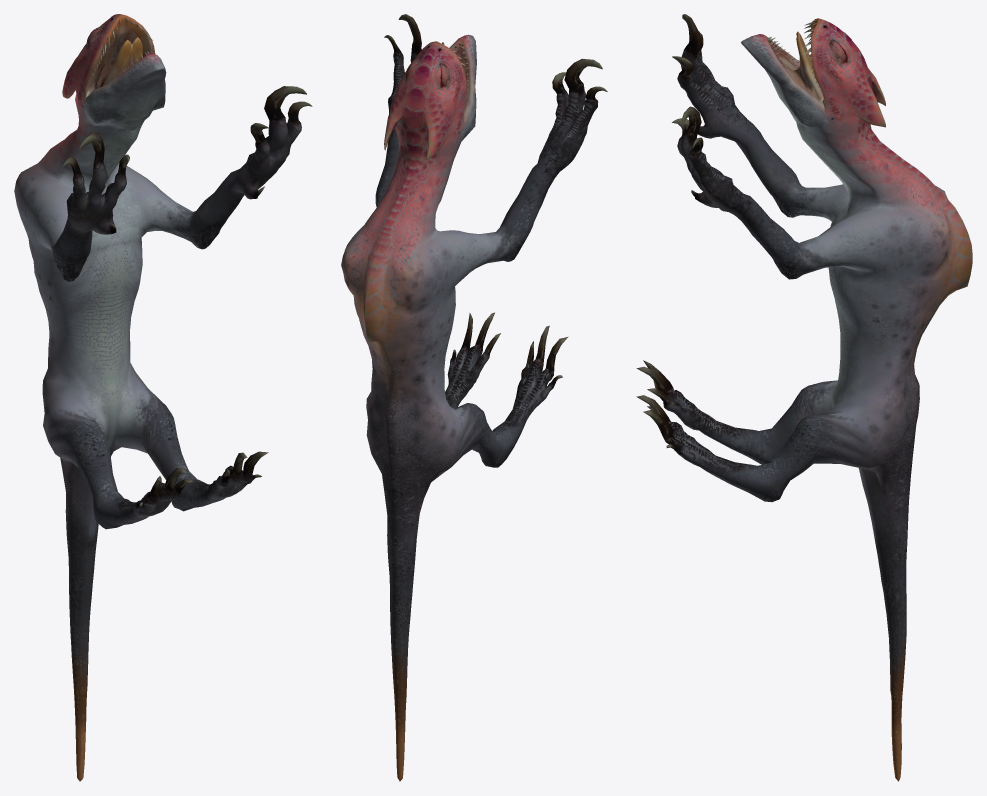
The model's file is ems054_00.obj.
3 renders of one model, left to right at view 1: azimuth 30°, elevation 25°; view 2: azimuth 150°, elevation 25°; view 3: azimuth 270°, elevation 25°, orthographic. The views are drawn at different scales.
Parts seen in each view (by area): view 1: ems054_00_001_LOD_1; view 2: ems054_00_001_LOD_1, ems054_00_004_LOD_1; view 3: ems054_00_001_LOD_1, ems054_00_004_LOD_1.
Boxes of the visible parts, <box> form: ems054_00_001_LOD_1: <box>14,14,312,781</box>; ems054_00_001_LOD_1: <box>341,14,607,781</box>; ems054_00_004_LOD_1: <box>401,53,456,95</box>; ems054_00_001_LOD_1: <box>636,14,972,781</box>; ems054_00_004_LOD_1: <box>826,32,854,72</box>.
Bounding box in the file's own units: 139 × 423 × 169.
